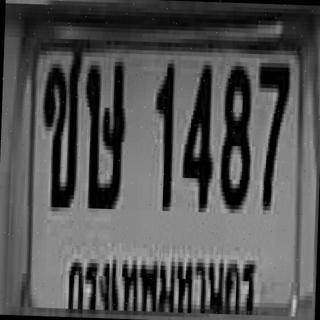A10: (40, 46, 82, 208)
A39: (81, 56, 126, 209)
N01: (151, 59, 174, 207)
N04: (180, 60, 214, 208)
N07: (253, 58, 288, 206)
N08: (218, 61, 252, 205)
P04: (62, 241, 262, 320)
